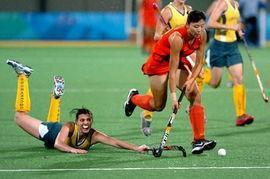Fall-Detected: (6, 55, 152, 155)
